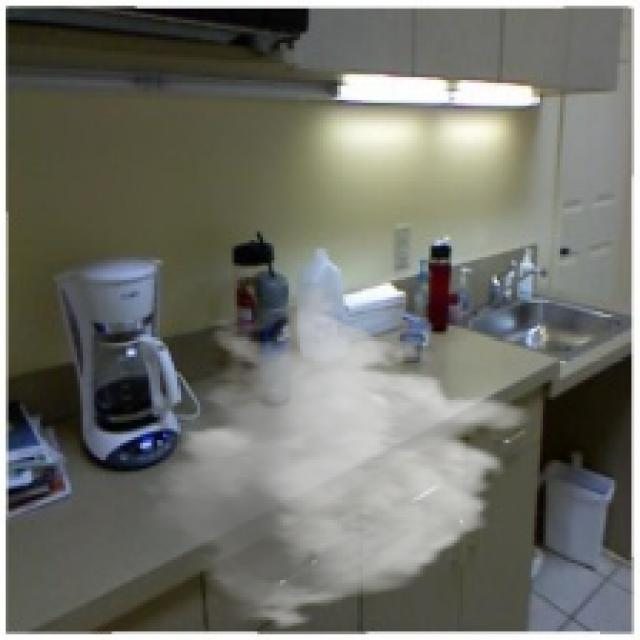smoke: (137, 283, 534, 631)
